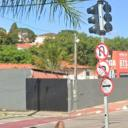NoVirarEsquerda: (95, 62, 110, 78)
NoVirarU: (94, 43, 109, 61)
